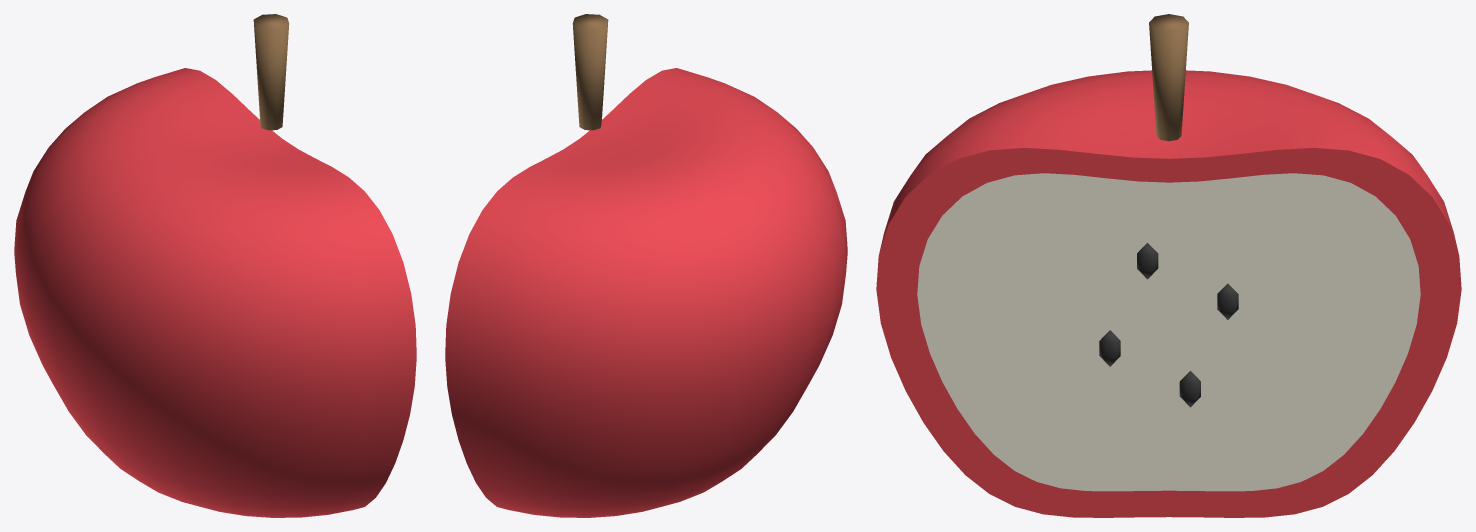
The model's file is Apple_Half_A.fbx.
The picture shows the model from 3 angles, left to right: view 1: azimuth 30°, elevation 25°; view 2: azimuth 150°, elevation 25°; view 3: azimuth 270°, elevation 25°; orthographic projection. The views are drawn at different scales.
Parts seen in each view (by area): view 1: Apple_Half_A; view 2: Apple_Half_A; view 3: Apple_Half_A.
Part boxes in pixels (<box>): Apple_Half_A: <box>14,14,416,517</box>; Apple_Half_A: <box>445,14,847,517</box>; Apple_Half_A: <box>876,14,1461,517</box>.
Size of the model in its own units: 0.481 by 0.8625 by 0.9344.
